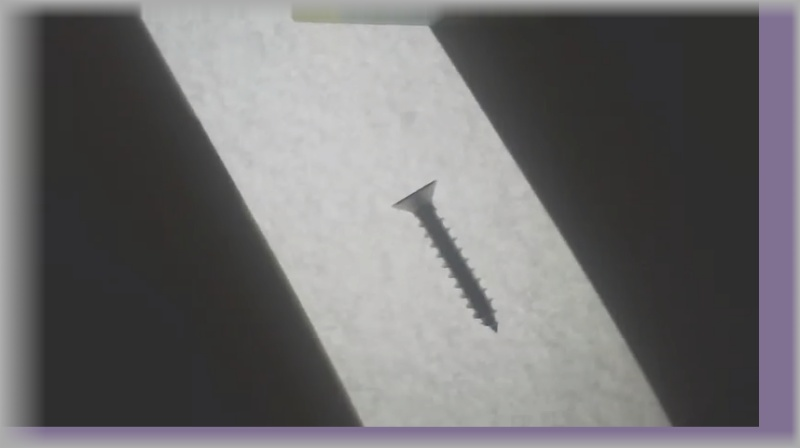S001: (386, 175, 505, 333)
